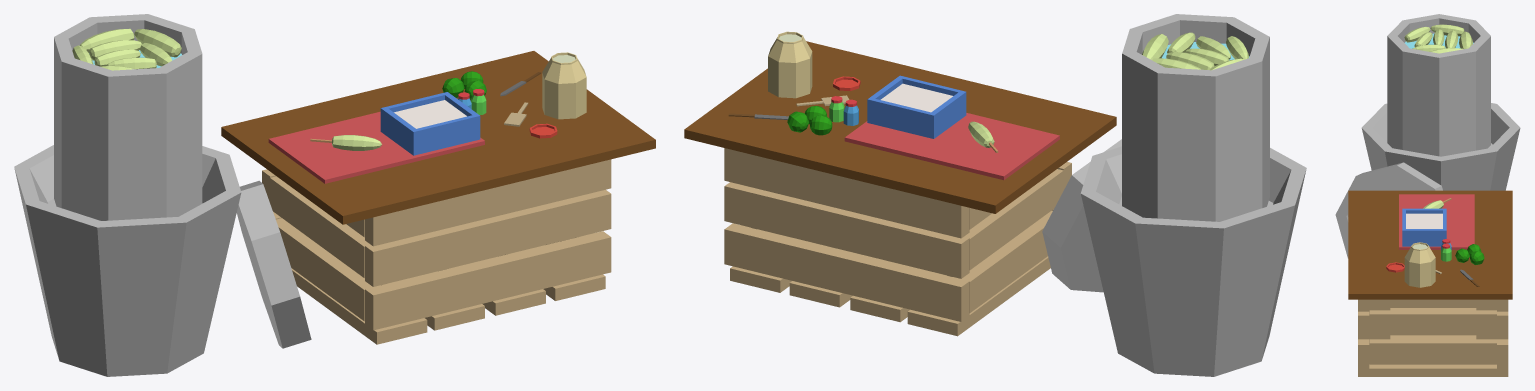
File: Puesto_Elotes.fbx
3 views of the same model, side by side, from view 1: azimuth 30°, elevation 25°; view 2: azimuth 150°, elevation 25°; view 3: azimuth 270°, elevation 25° (orthographic). The views are drawn at different scales.
Visible parts, largest first — view 1: Cylinder.046, Cube.075, Cylinder.047, Cube.058, Cube.059, Cube.060, Cylinder.056, Cube.076, Cube.079, Cube.064, Cube.065, Cylinder.048 (+8 smaller); view 2: Cylinder.046, Cylinder.047, Cube.075, Cube.061, Cube.062, Cube.063, Cube.076, Cube.079, Cylinder.056, Cube.064, Cube.065, Cylinder.048 (+4 smaller); view 3: Cylinder.047, Cube.075, Cylinder.046, Cube.069, Cube.068, Cube.076, Cylinder.056, Cube.074, Cube.079, Cylinder.048, Cube.067, Cube.058 (+15 smaller).
Part boxes in pixels (x1,y1,x2,y2): Cylinder.046: (14, 145, 241, 376); Cube.075: (221, 51, 655, 224); Cylinder.047: (54, 14, 202, 220); Cube.058: (365, 231, 611, 330); Cube.059: (365, 189, 611, 286); Cube.060: (365, 159, 611, 246); Cylinder.056: (236, 180, 311, 348); Cube.076: (268, 111, 484, 183); Cube.079: (380, 92, 480, 155); Cube.064: (270, 176, 369, 278); Cube.065: (276, 218, 372, 321); Cylinder.048: (542, 52, 586, 119); Cylinder.046: (1080, 146, 1306, 376); Cylinder.047: (1122, 14, 1269, 221); Cube.075: (684, 41, 1116, 213); Cube.061: (724, 223, 969, 321); Cube.062: (724, 182, 969, 278); Cube.063: (724, 148, 969, 238); Cube.076: (844, 113, 1059, 180); Cube.079: (867, 75, 966, 138); Cylinder.056: (1042, 139, 1121, 292); Cube.064: (964, 169, 1063, 269); Cube.065: (960, 210, 1052, 312); Cylinder.048: (768, 31, 812, 98); Cylinder.047: (1387, 14, 1490, 156); Cube.075: (1348, 190, 1512, 299); Cylinder.046: (1361, 103, 1520, 190); Cube.069: (1369, 337, 1496, 364); Cube.068: (1369, 308, 1496, 335); Cube.076: (1399, 194, 1474, 249); Cylinder.056: (1335, 162, 1442, 258); Cube.074: (1358, 364, 1508, 376); Cube.079: (1402, 208, 1446, 246); Cylinder.048: (1404, 242, 1435, 287); Cube.067: (1369, 299, 1496, 307); Cube.058: (1358, 339, 1369, 368).
Size of the model in its own units: 6839 by 2891 by 3529.
